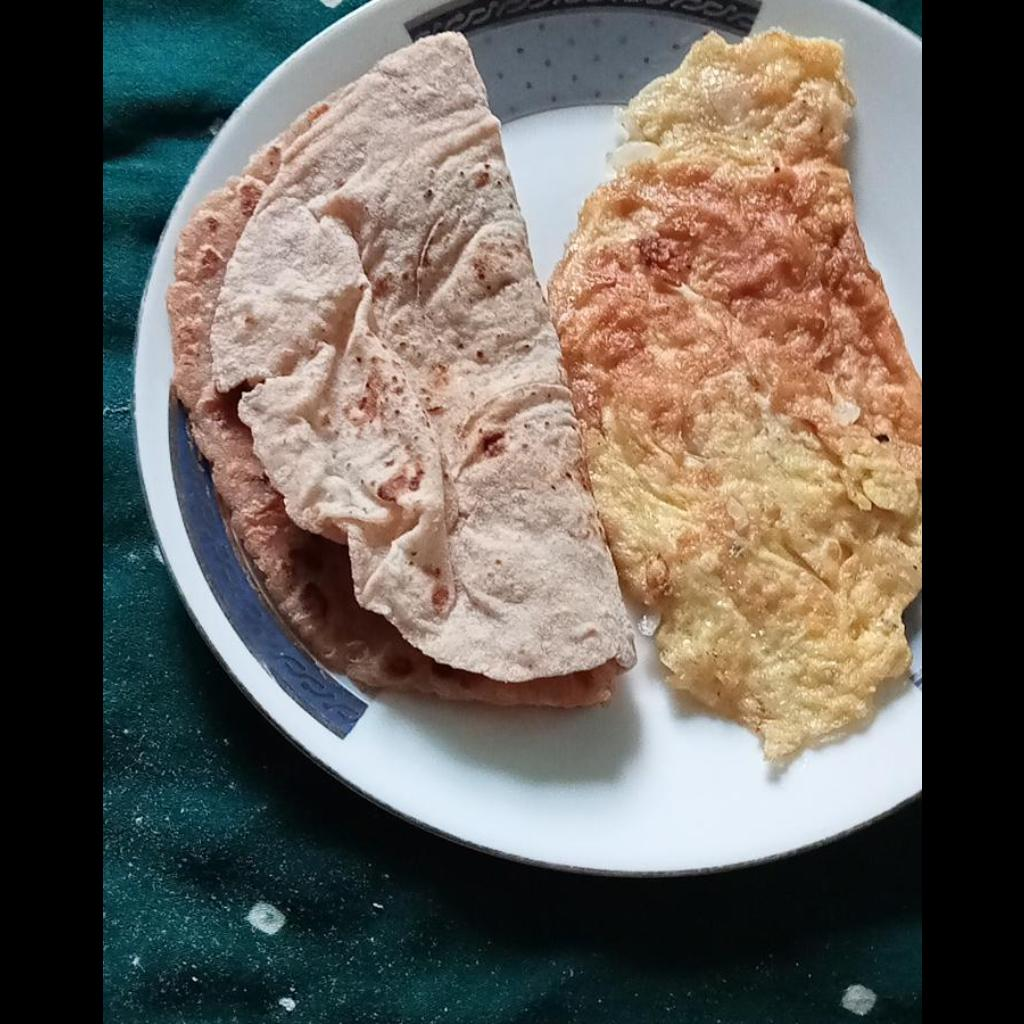egg-poached: (548, 23, 920, 763)
ruti: (171, 25, 637, 706)
